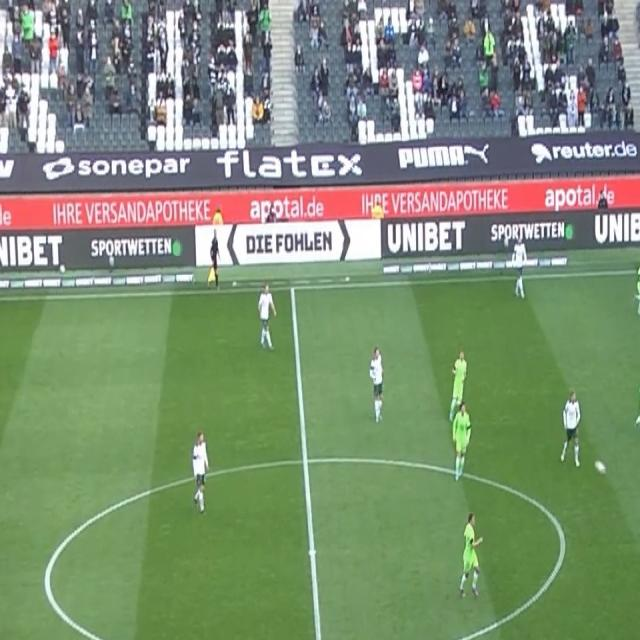ball: (593, 457, 608, 476)
